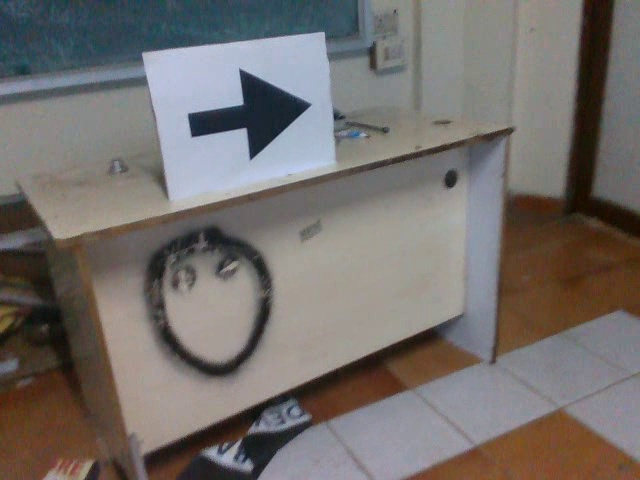Right: (180, 62, 315, 163)
